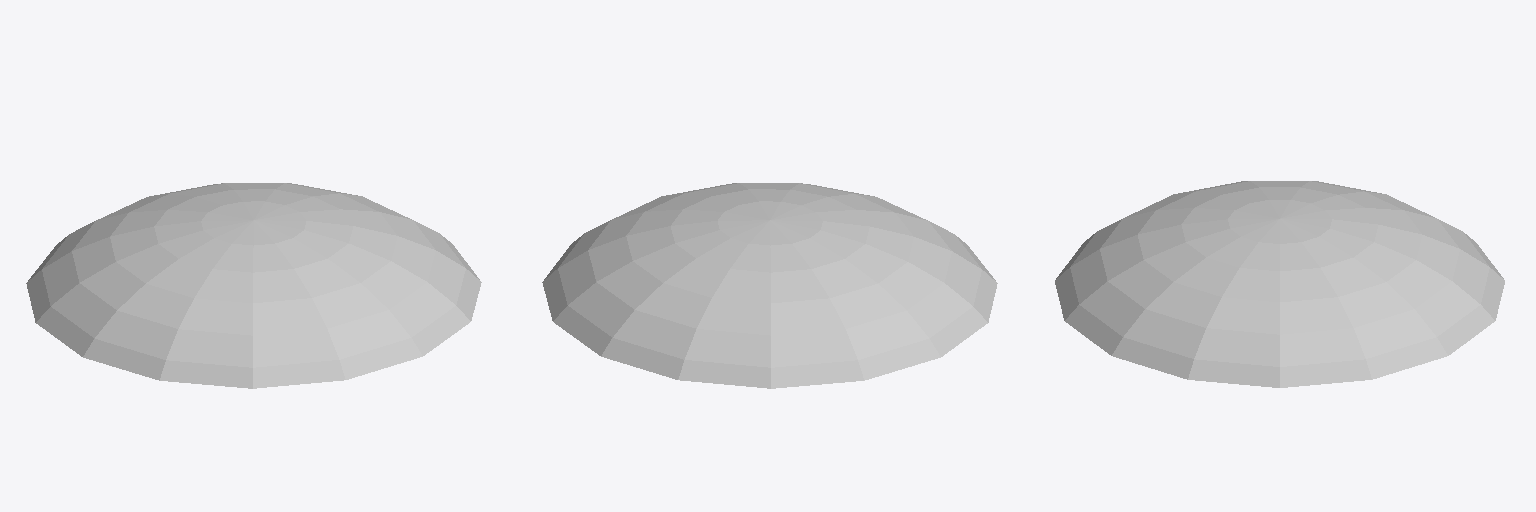
The model's file is watch_color_cap.obj.
3 views of the same model, side by side, from view 1: azimuth 30°, elevation 25°; view 2: azimuth 150°, elevation 25°; view 3: azimuth 270°, elevation 25° (orthographic).
Visible parts, largest first — view 1: glass group1; view 2: glass group1; view 3: glass group1.
Boxes of the visible parts, x1,y1,x2,y2 form: glass group1: [26, 183, 481, 388]; glass group1: [542, 183, 997, 388]; glass group1: [1055, 181, 1504, 387].
Bounding box in the file's own units: 0.0544 × 0.0096 × 0.054.